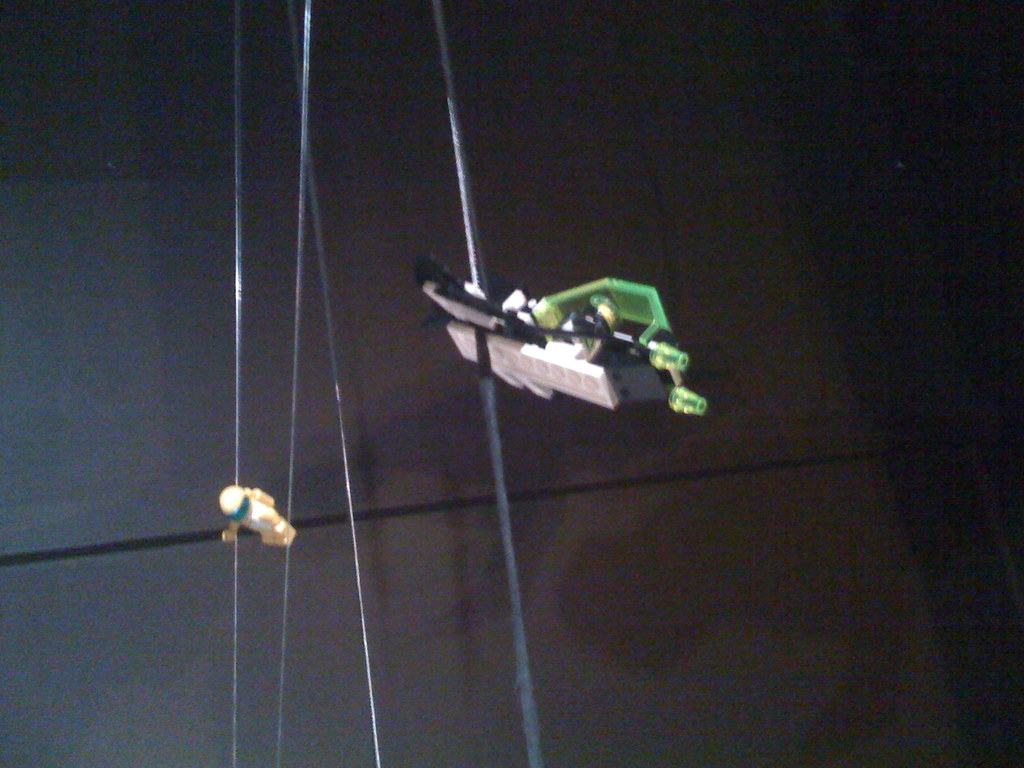Person: (217, 484, 297, 549)
